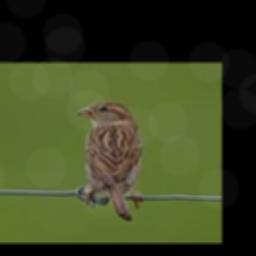Sparrow: (75, 100, 141, 220)
